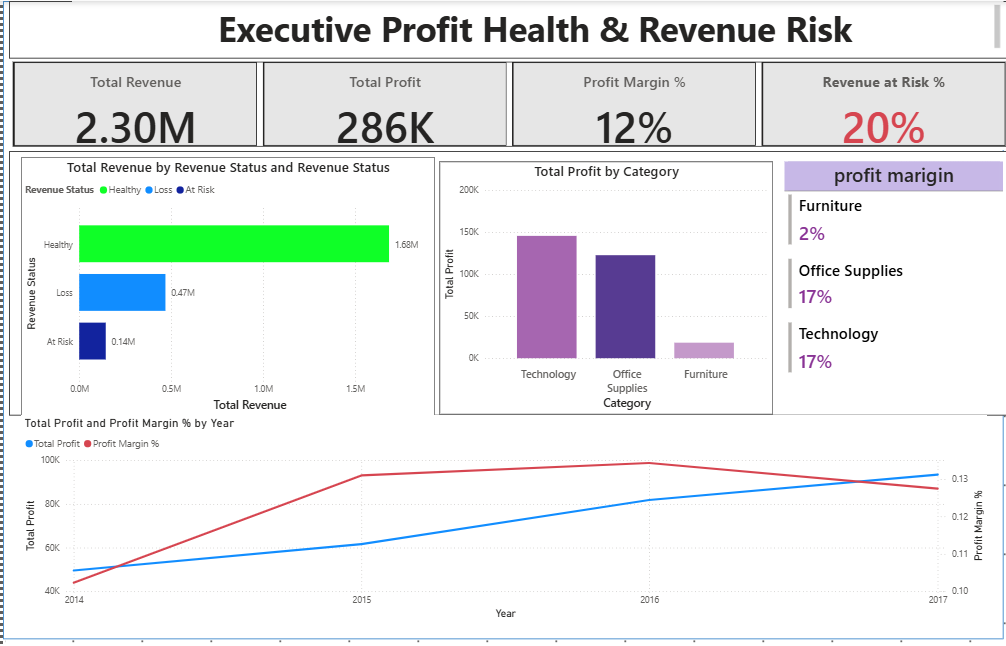

Layout of this report page (visuals, bound fields, positions):
{"tool":"powerbi","page":{"name":"Page 1","canvas":[1400,900],"ordinal":0},"visuals":[{"type":"shape","box":[0,0,1392,888],"z":0},{"type":"shape","box":[8,208,1392,368],"z":1000},{"type":"cardVisual","fields":{"Data":["Sample - Superstore.Total Revenue","Sample - Superstore.Total Profit","Sample - Superstore.Profit Margin %","Sample - Superstore.Revenue at Risk %"]},"box":[8,80,1392,128],"z":2000},{"type":"barChart","fields":{"Y":["Sample - Superstore.Total Revenue"],"Category":["Sample - Superstore.Revenue Status"],"Series":["Sample - Superstore.Revenue Status"]},"box":[24,216,576,360],"z":3000},{"type":"shape","box":[8,0,1392,80],"z":4000},{"type":"lineStackedColumnComboChart","fields":{"Category":["Sample - Superstore.Category"],"Y":["Sample - Superstore.Total Profit"]},"box":[608,224,464,352],"z":5000},{"type":"lineChart","fields":{"Category":["Sample - Superstore.Month Start.Variation.Date Hierarchy.Year","Sample - Superstore.Month Start.Variation.Date Hierarchy.Month"],"Y":["Sample - Superstore.Total Profit"],"Y2":["Sample - Superstore.Profit Margin %"]},"box":[24,576,1344,288],"z":6000},{"type":"multiRowCard","title":"profit marigin","fields":{"Values":["Sample - Superstore.Category","Sample - Superstore.Profit Margin %"]},"box":[1088,224,304,336],"z":7000},{"type":"textbox","box":[96,0,1296,72],"z":8000}]}

Visuals, with their boxes in screenshot pixels (x1, y1, x2, y2), scaled from the page's 1400x900 canvas onto the 1006x646 screenshot:
shape: [left=0, top=0, right=1000, bottom=637]
shape: [left=6, top=149, right=1005, bottom=413]
cardVisual - Sample - Superstore.Total Revenue x Sample - Superstore.Total Profit: [left=6, top=57, right=1005, bottom=149]
barChart - Sample - Superstore.Total Revenue x Sample - Superstore.Revenue Status: [left=17, top=155, right=431, bottom=413]
shape: [left=6, top=0, right=1005, bottom=57]
lineStackedColumnComboChart - Sample - Superstore.Category x Sample - Superstore.Total Profit: [left=437, top=161, right=770, bottom=413]
lineChart - Sample - Superstore.Month Start.Variation.Date Hierarchy.Year x Sample - Superstore.Month Start.Variation.Date Hierarchy.Month: [left=17, top=413, right=983, bottom=620]
"profit marigin" multiRowCard: [left=782, top=161, right=1000, bottom=402]
textbox: [left=69, top=0, right=1000, bottom=52]
